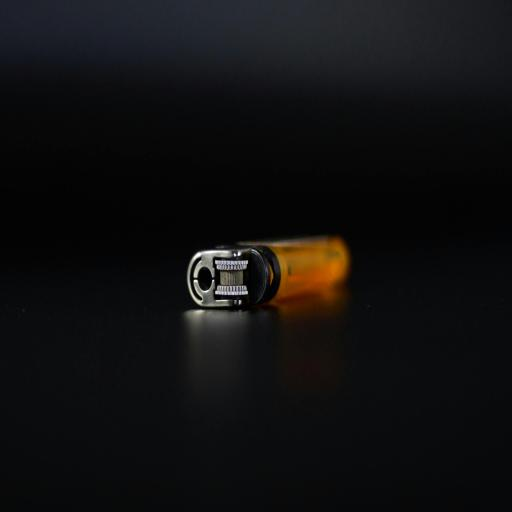lighter: (174, 186, 373, 321)
